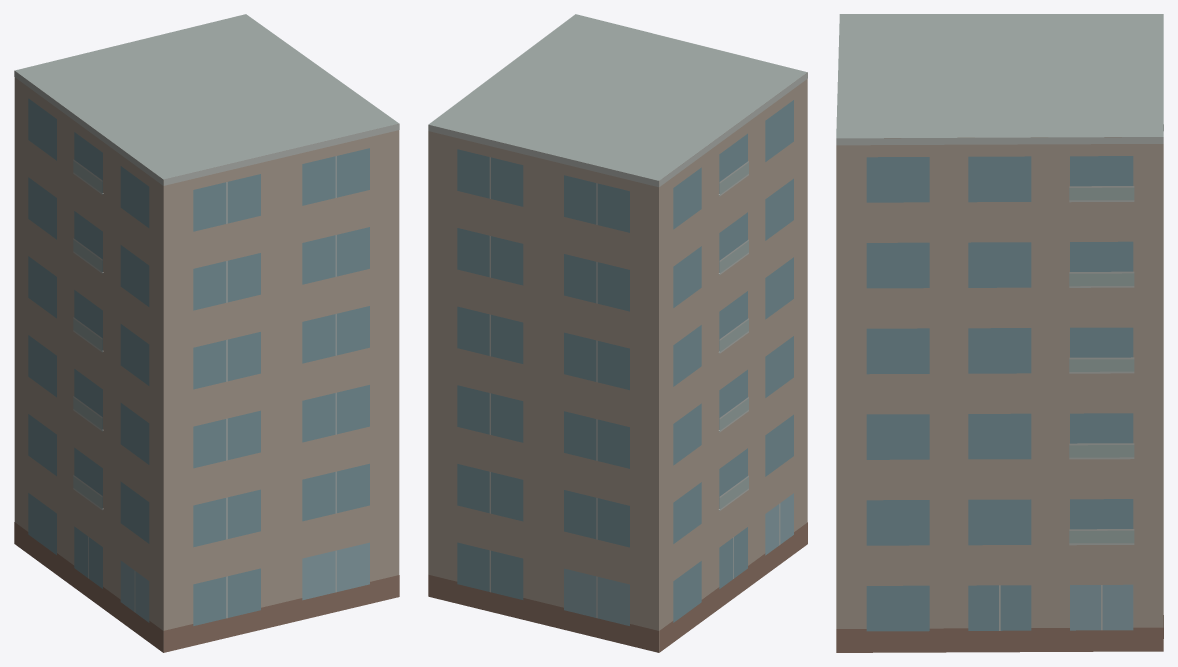
The model's file is survey-upis-32840876.glb.
3 renders of one model, left to right at view 1: azimuth 30°, elevation 25°; view 2: azimuth 150°, elevation 25°; view 3: azimuth 270°, elevation 25°, orthographic. The views are drawn at different scales.
Parts seen in each view (by area): view 1: survey-upis-32840876.tmp; view 2: survey-upis-32840876.tmp; view 3: survey-upis-32840876.tmp.
Boxes of the visible parts, bbox=[...] form: survey-upis-32840876.tmp: bbox=[14, 14, 399, 652]; survey-upis-32840876.tmp: bbox=[428, 14, 807, 652]; survey-upis-32840876.tmp: bbox=[836, 14, 1163, 652].
Size of the model in its own units: 9.37 by 18 by 10.4.
